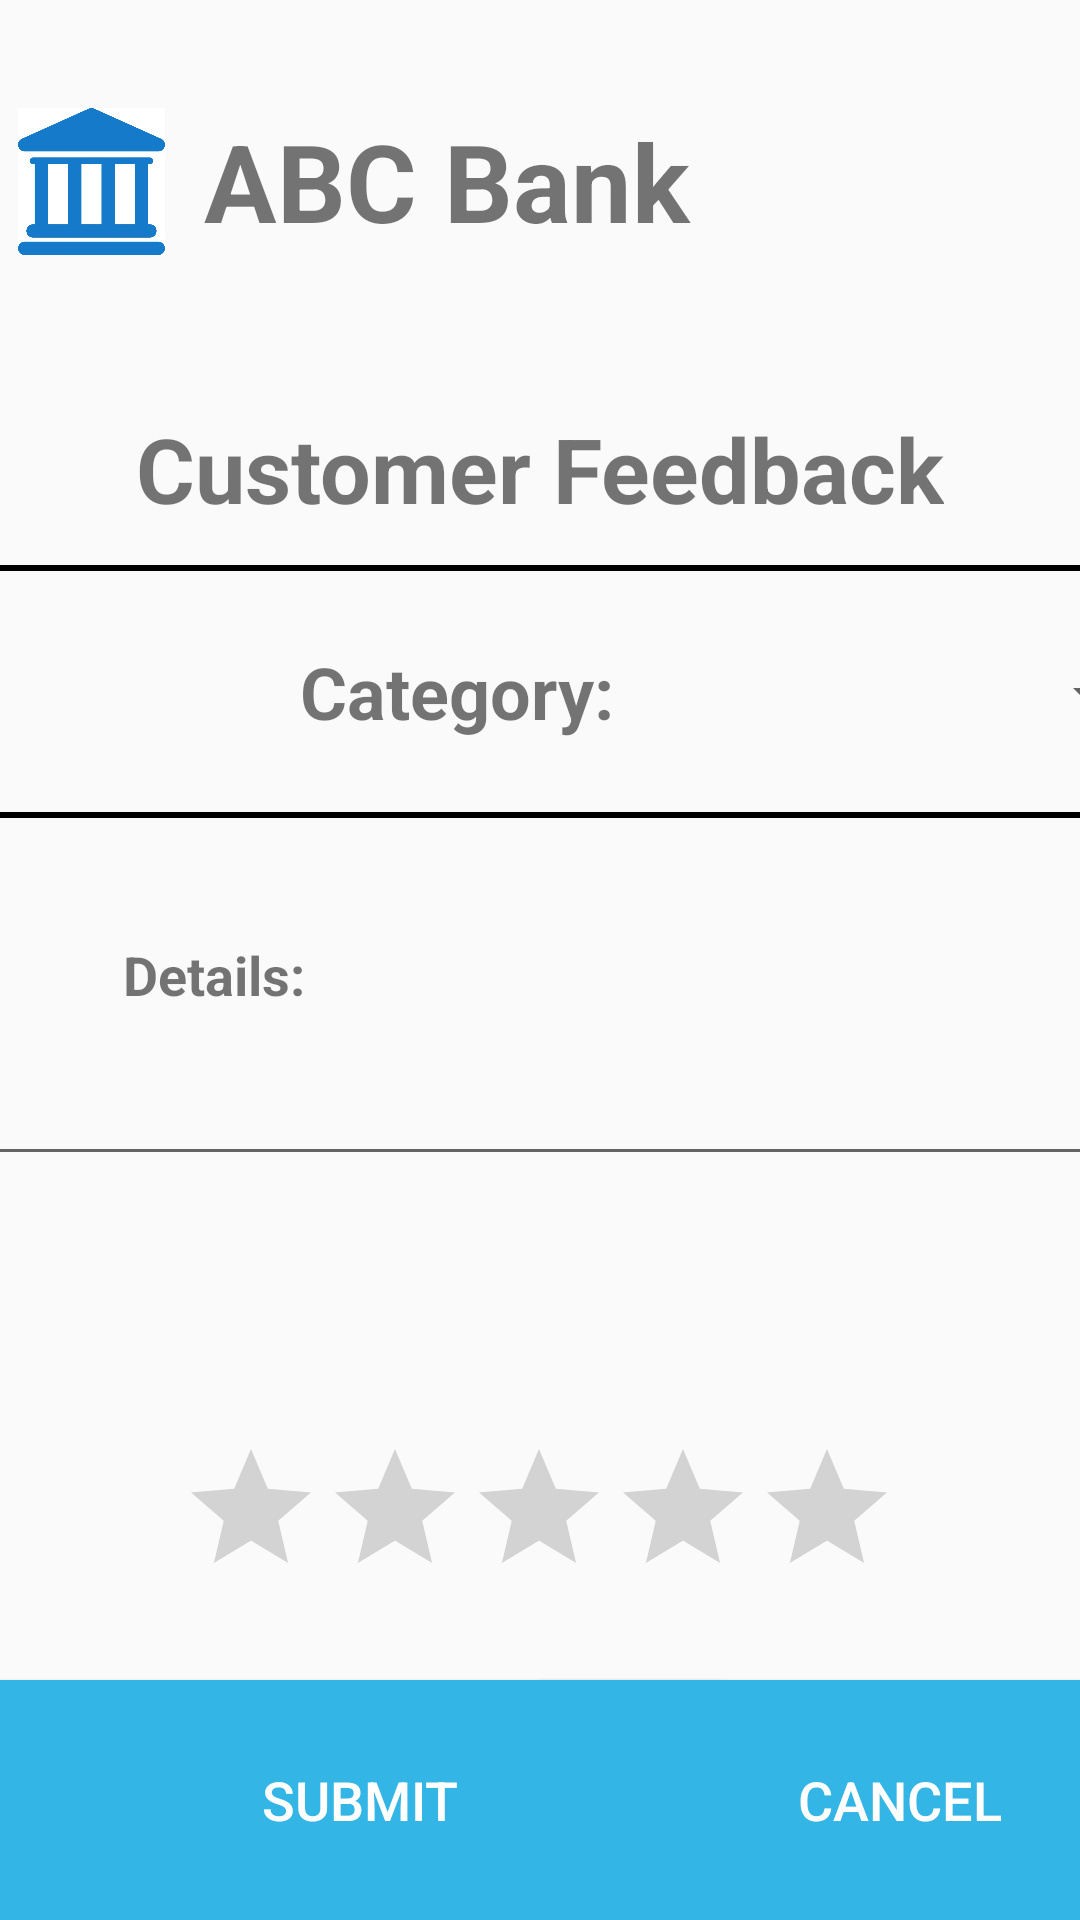

Where to tap for icons on this 1080px x 1920px app screen, as (x,y):
bankicon: (91,181)
